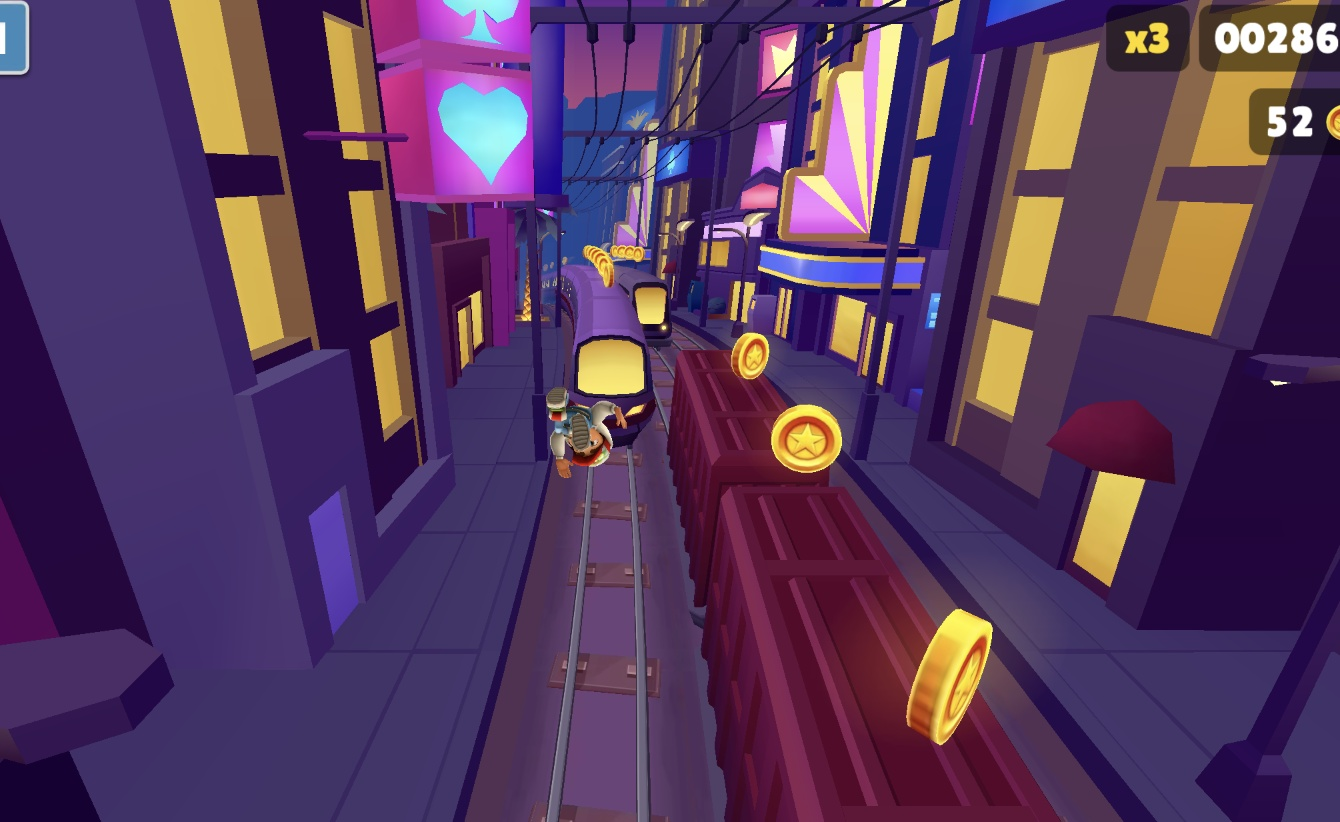train: (682, 350, 1070, 822), (552, 262, 659, 458), (617, 275, 675, 348)
